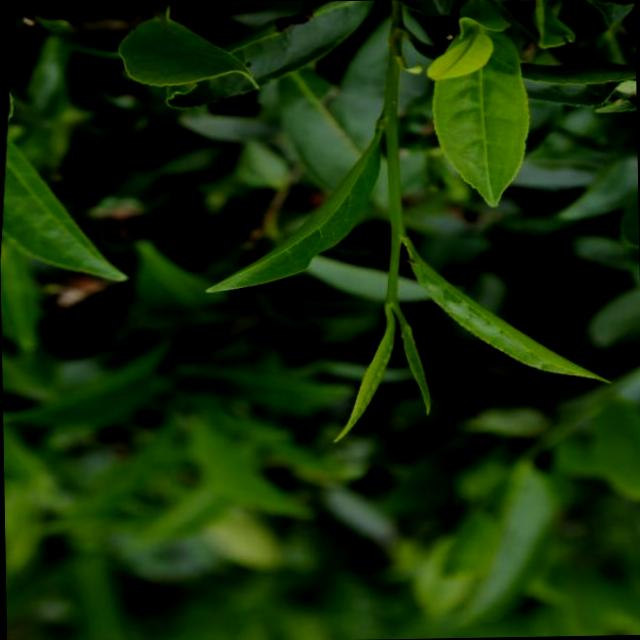Stem: (386, 256, 398, 301)
